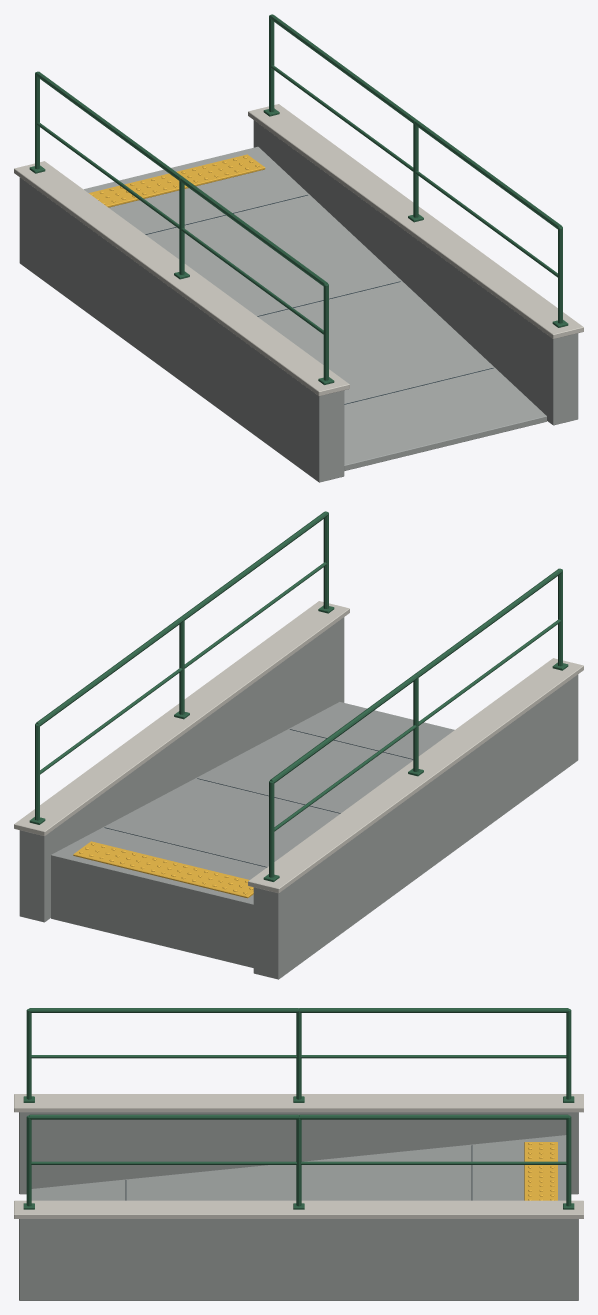
The model's file is b13_sunken_transit_ramp_entrance.glb.
The picture shows the model from 3 angles, top to bottom: view 1: azimuth 30°, elevation 25°; view 2: azimuth 150°, elevation 25°; view 3: azimuth 270°, elevation 25°; orthographic projection. The views are drawn at different scales.
Visible parts, largest first — view 1: b13_sunken_transit_ramp_entrance; view 2: b13_sunken_transit_ramp_entrance; view 3: b13_sunken_transit_ramp_entrance.
Boxes of the visible parts, x1,y1,x2,y2 form: b13_sunken_transit_ramp_entrance: (14,14,583,482); b13_sunken_transit_ramp_entrance: (14,511,583,979); b13_sunken_transit_ramp_entrance: (14,1008,583,1300).
Bounding box in the file's own units: 2.81 × 1.96 × 5.6.
